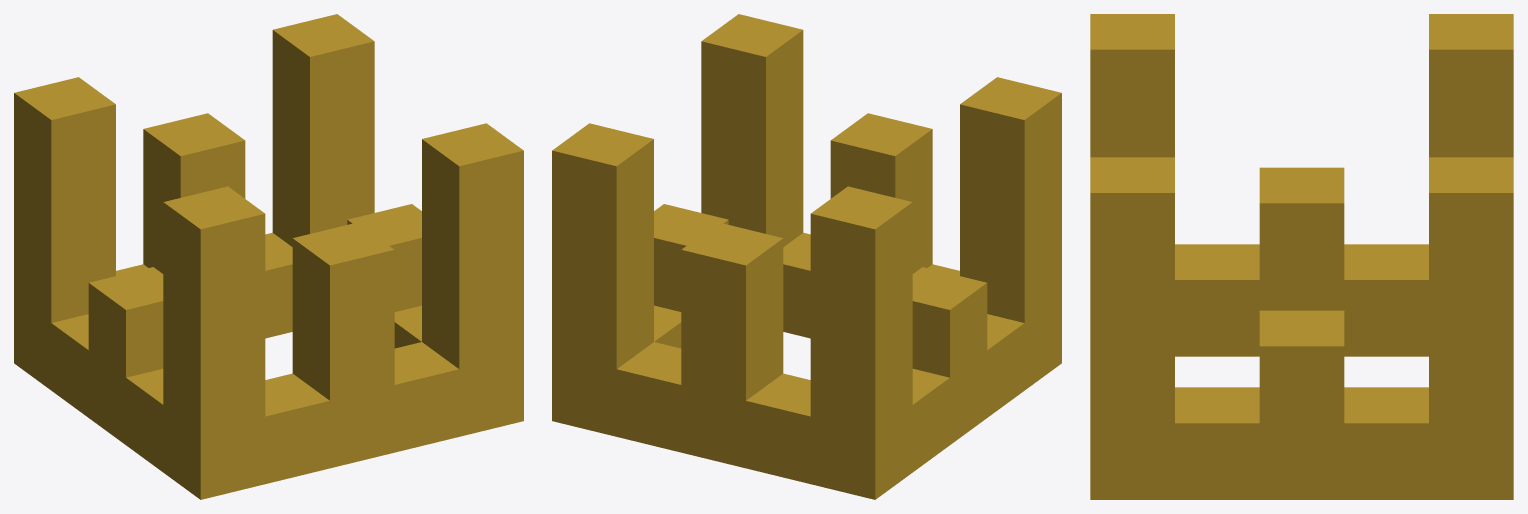
Rendered from K_Crown.obj.
The picture shows the model from 3 angles, left to right: view 1: azimuth 30°, elevation 25°; view 2: azimuth 150°, elevation 25°; view 3: azimuth 270°, elevation 25°; orthographic projection. The views are drawn at different scales.
Parts seen in each view (by area): view 1: K_Crown; view 2: K_Crown; view 3: K_Crown.
Boxes of the visible parts, <box> form: K_Crown: <box>14,14,523,499</box>; K_Crown: <box>552,14,1061,499</box>; K_Crown: <box>1090,14,1513,499</box>.
Size of the model in its own units: 0.125 by 0.1 by 0.125.
1 material, 1 textured.
